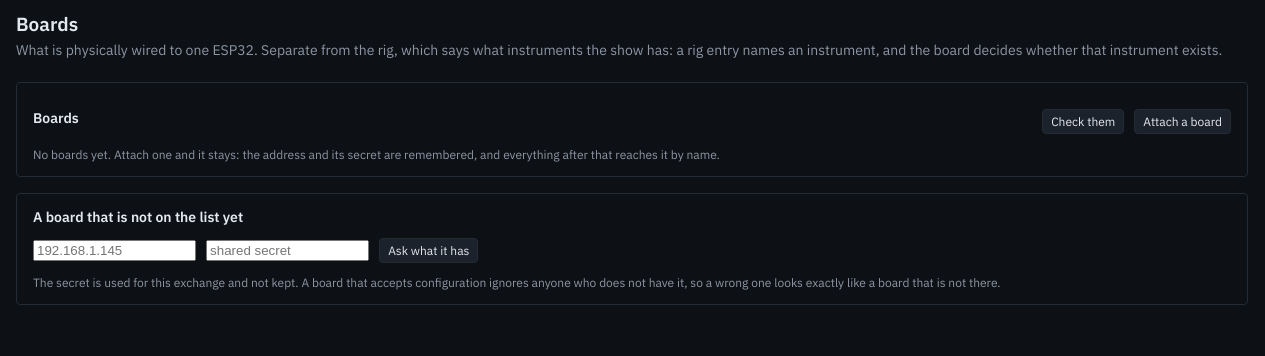
reaching a board › shows the board its own words when it refuses
This screenshot has width=1265, height=356.
Type "127.0.0.1:5599" into the field named "Board address" at (115, 250), box [33,240,196,261]
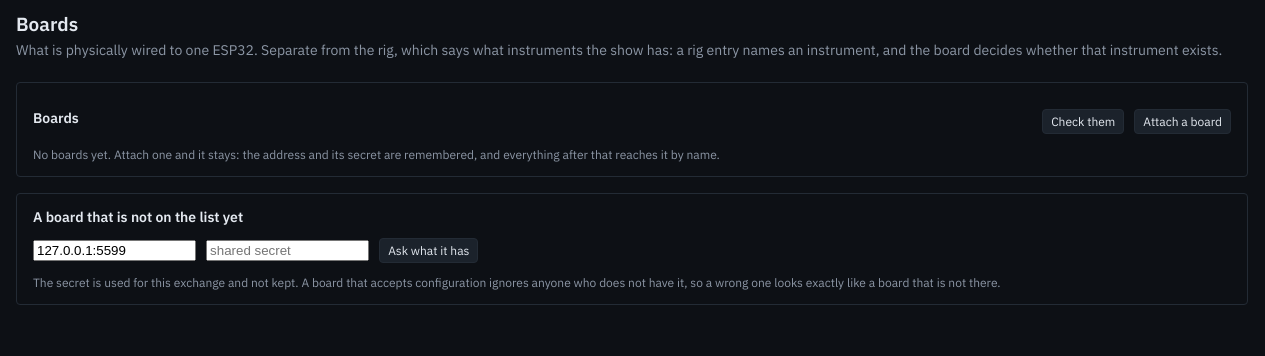
Type "bench secret" into the password field labelled "shared secret" at (288, 250), box [206,240,369,261]
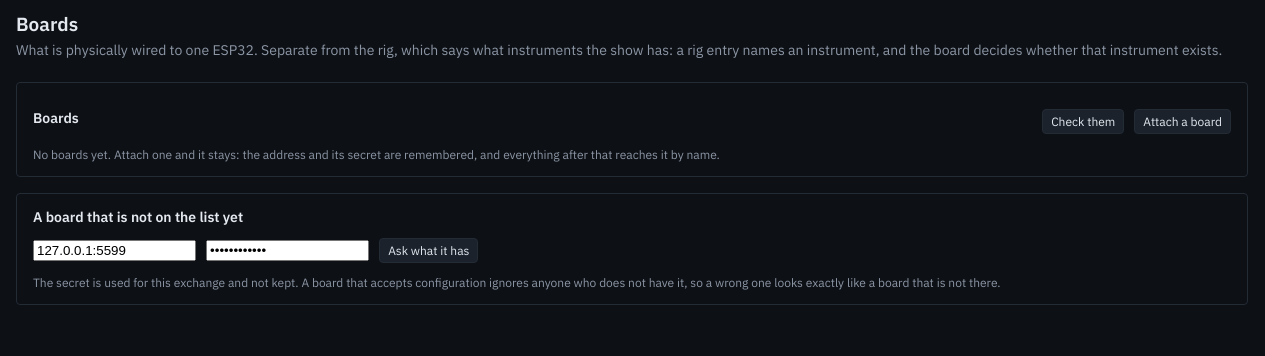
Click the button "Ask what it has" at (429, 250), box [379,238,478,263]
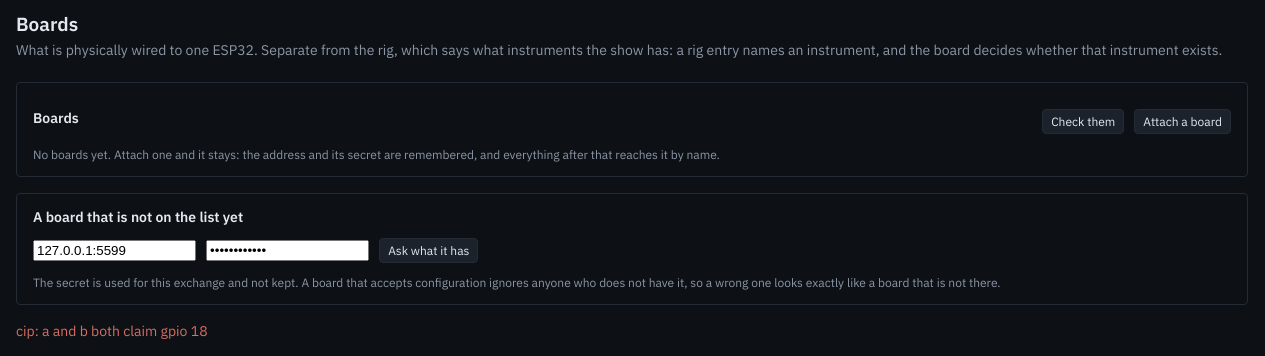
Result: the text "cip: a and b both claim gpio 18" is shown at [16,322,208,340]
